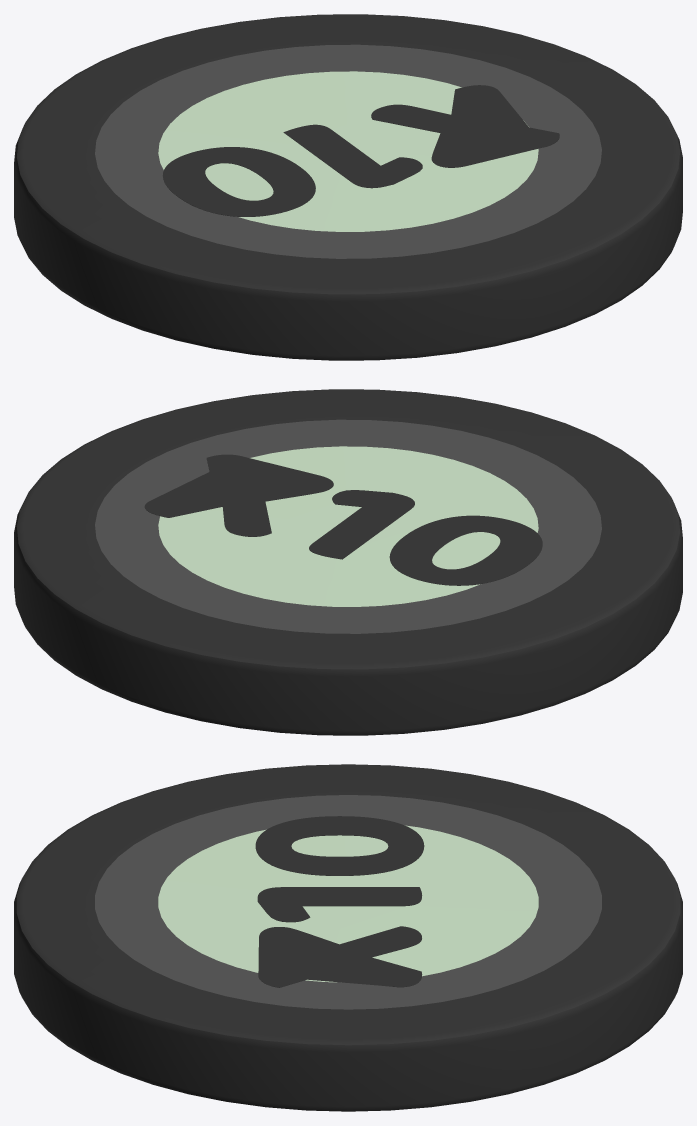
3 views of the same model, one above another, from view 1: azimuth 30°, elevation 25°; view 2: azimuth 150°, elevation 25°; view 3: azimuth 270°, elevation 25° (orthographic).
Parts seen in each view (by area): view 1: X10; view 2: X10; view 3: X10.
Part boxes in pixels (<box>): X10: <box>14,14,682,360</box>; X10: <box>14,389,682,735</box>; X10: <box>14,764,682,1111</box>.
Bounding box in the file's own units: 321 × 38.33 × 320.
